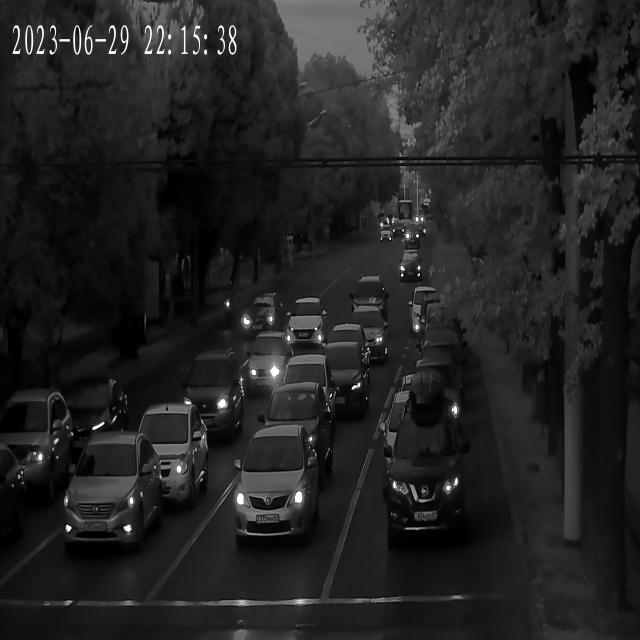Car: (383, 389, 469, 541), (55, 434, 164, 551), (239, 426, 321, 545), (0, 390, 73, 501), (129, 403, 208, 504), (253, 385, 332, 482), (175, 350, 246, 436), (50, 374, 130, 441), (391, 367, 464, 435), (309, 342, 369, 414), (273, 356, 337, 421), (238, 334, 294, 391), (0, 439, 26, 554), (322, 325, 373, 377), (339, 310, 387, 364), (406, 354, 464, 398), (283, 295, 327, 347), (416, 333, 466, 378), (409, 285, 449, 337), (351, 277, 391, 320), (239, 294, 281, 333), (349, 298, 389, 337), (400, 251, 425, 284), (404, 226, 422, 247), (379, 228, 395, 244)
